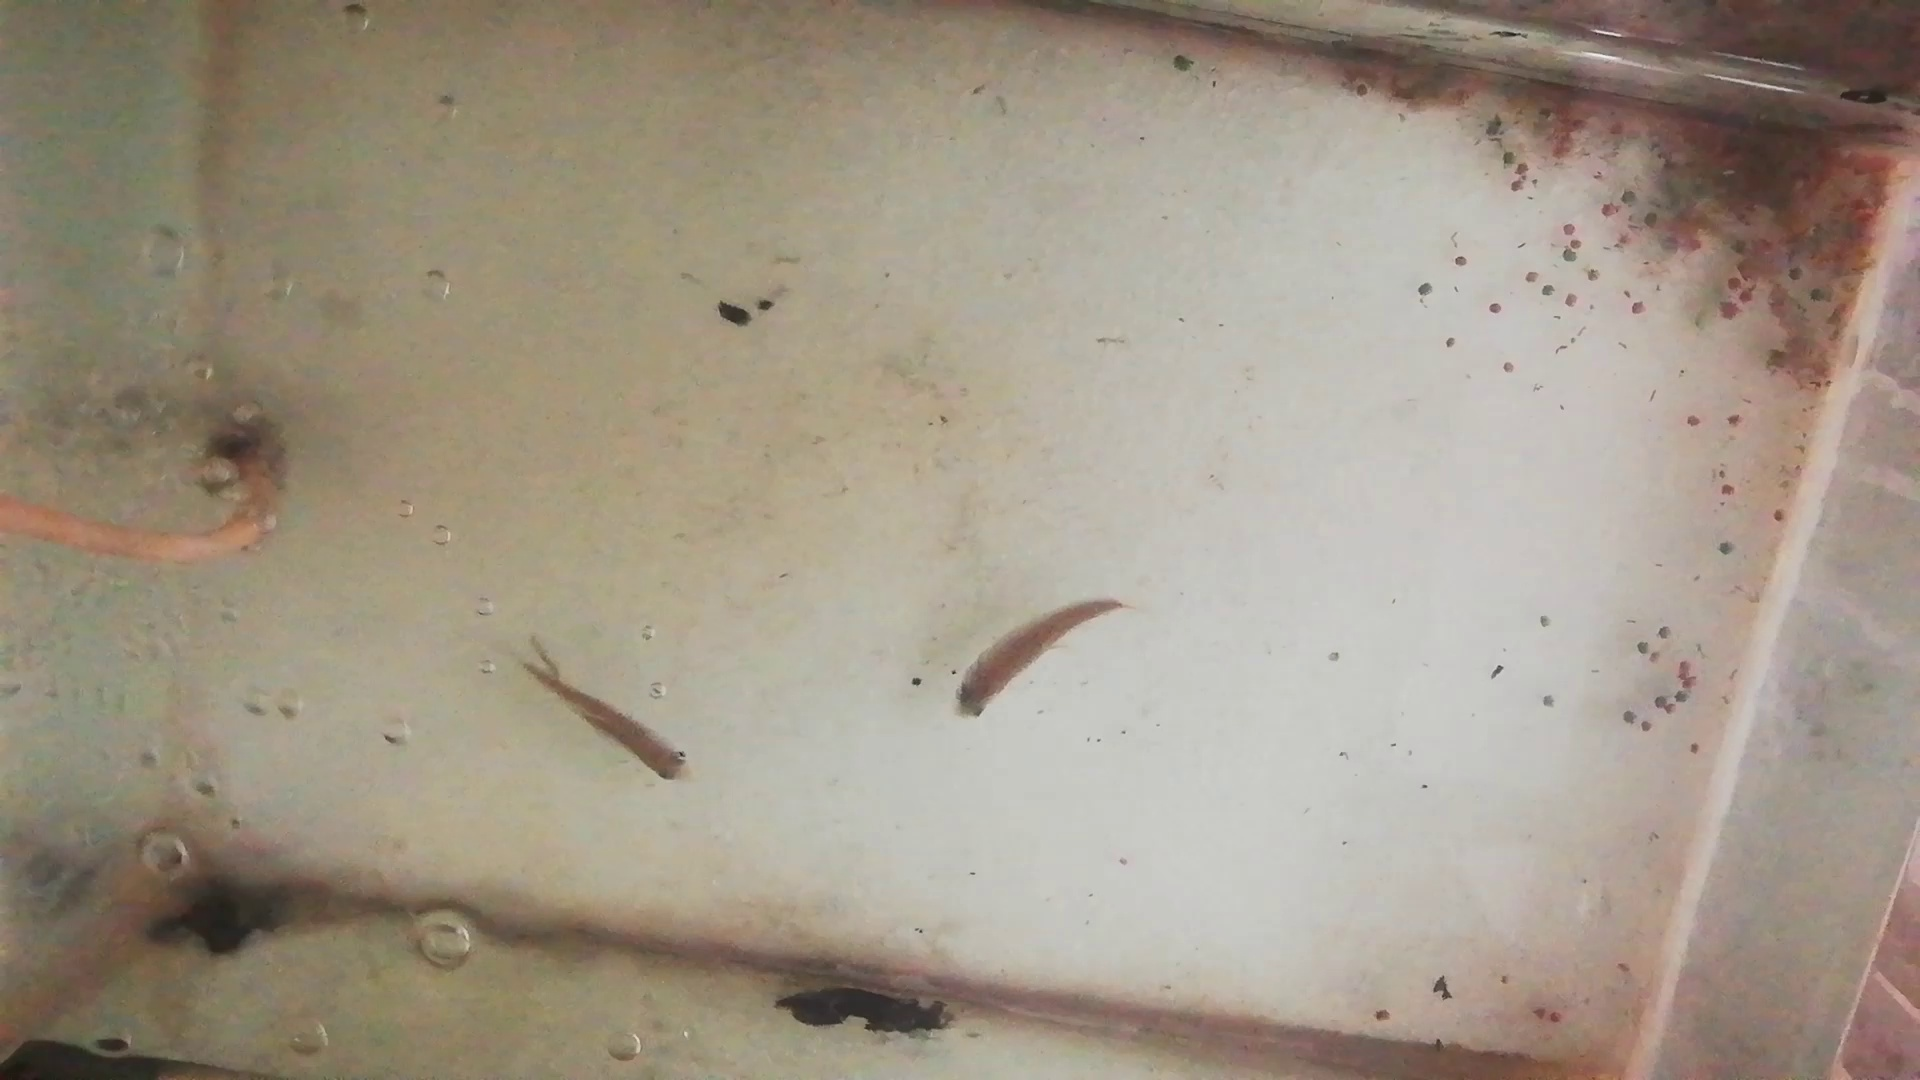fish: (949, 595, 1120, 723), (512, 669, 684, 789)
